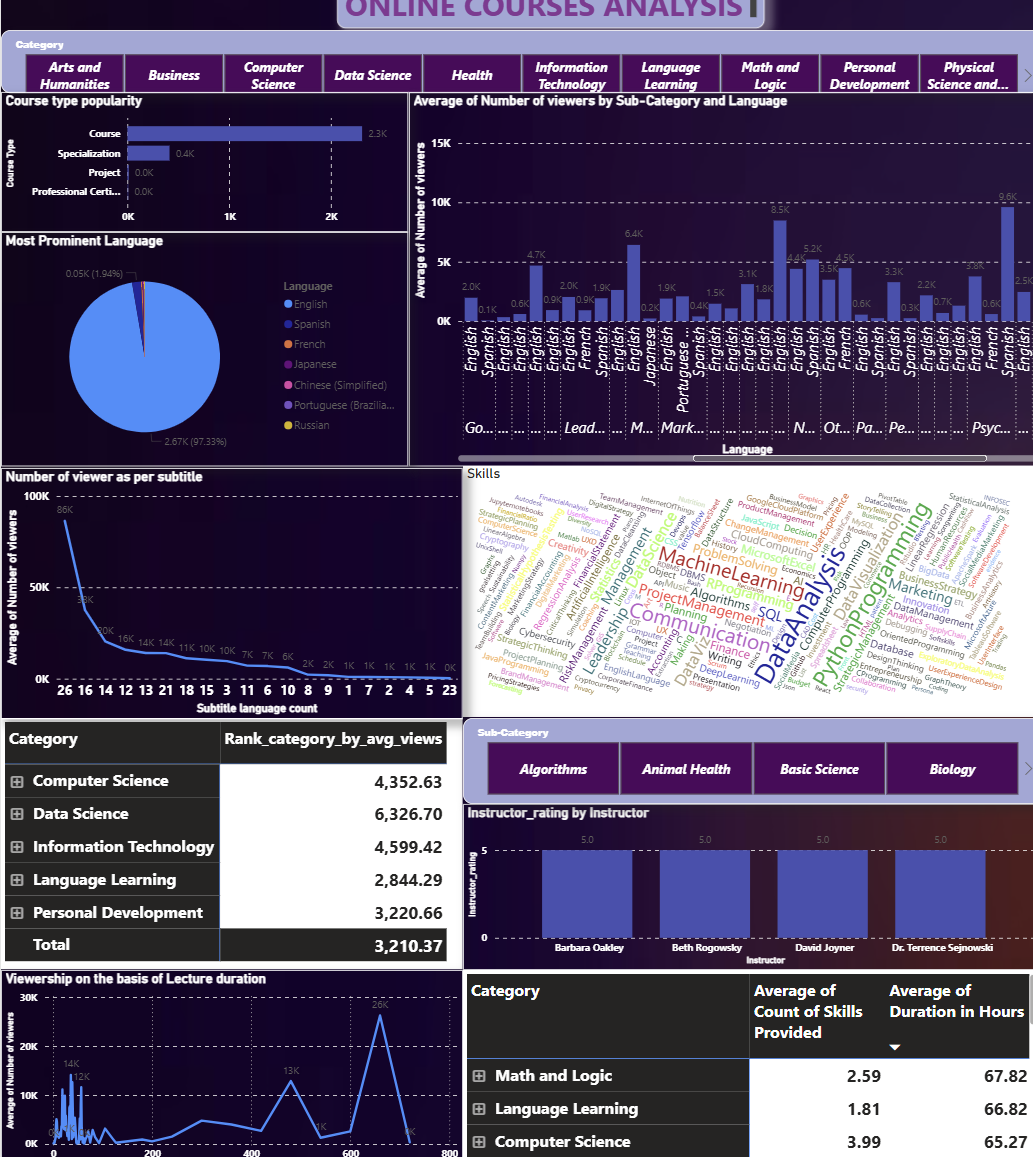

Layout of this report page (visuals, bound fields, positions):
{"tool":"powerbi","page":{"name":"Page 1","canvas":[1300,1500],"ordinal":0},"visuals":[{"type":"textbox","box":[418.8,0,534.4,65.6],"z":0},{"type":"slicer","fields":{"Values":["Online_Courses.Category"]},"box":[0,67,1300,79],"z":1000},{"type":"barChart","title":"Course type popularity","fields":{"Category":["Online_Courses.Course Type"],"Y":["CountNonNull(Online_Courses.course id)"]},"box":[0,145.5,509.1,175],"z":2000},{"type":"columnChart","fields":{"Category":["Online_Courses.Sub-Category","Online_Courses.Language"],"Y":["Avg(Online_Courses.Number of viewers)"]},"box":[509,146,791,468],"z":3000},{"type":"WordCloud1447959067750","fields":{"Category":["Online_Courses.Skills"]},"box":[577.3,613.6,725,313.6],"z":4000},{"type":"pieChart","title":"Most Prominent Language","fields":{"Category":["Online_Courses.Language"],"Y":["CountNonNull(Online_Courses.course id)"]},"box":[0,320.5,509.1,293.2],"z":5000},{"type":"pivotTable","fields":{"Rows":["Online_Courses.Category","Online_Courses.Language"],"Values":["Online_Courses.Rank_category_by_avg_views"]},"box":[0,927.8,577.2,313.9],"z":6000},{"type":"lineChart","title":"Number of viewer as per subtitle ","fields":{"Category":["Online_Courses.Subtitle language count"],"Y":["Avg(Online_Courses.Number of viewers)"]},"box":[0,613.9,577.2,313.9],"z":7000},{"type":"clusteredColumnChart","fields":{"Category":["teachers.Instructor"],"Y":["teachers.Instructor_rating"]},"box":[577.1,1034.4,722.9,207.3],"z":8000},{"type":"slicer","fields":{"Values":["teachers.Sub-Category"]},"box":[577.1,927.1,722.9,107.3],"z":9000},{"type":"lineChart","title":"Viewership on the basis of Lecture duration","fields":{"Category":["Online_Courses.Duration in Hours"],"Y":["Avg(Online_Courses.Number of viewers)"]},"box":[0,1242.5,577.5,257.5],"z":10000},{"type":"pivotTable","fields":{"Rows":["Online_Courses.Category","Online_Courses.Sub-Category"],"Values":["Avg(Online_Courses.Count of Skills Provided)","Avg(Online_Courses.Duration in Hours)"]},"box":[578,1243,722,257],"z":11000}]}

Visuals, with their boxes in screenshot pixels (x1, y1, x2, y2):
textbox: 330, 0, 752, 34
slicer - Online_Courses.Category: 0, 35, 1025, 97
"Course type popularity" barChart: 0, 97, 401, 235
columnChart - Online_Courses.Sub-Category x Online_Courses.Language: 401, 97, 1025, 466
WordCloud1447959067750 - Online_Courses.Skills: 455, 466, 1027, 713
"Most Prominent Language" pieChart: 0, 235, 401, 466
pivotTable - Online_Courses.Category x Online_Courses.Language: 0, 714, 455, 961
"Number of viewer as per subtitle " lineChart: 0, 466, 455, 714
clusteredColumnChart - teachers.Instructor x teachers.Instructor_rating: 455, 798, 1025, 961
slicer - teachers.Sub-Category: 455, 713, 1025, 798
"Viewership on the basis of Lecture duration" lineChart: 0, 962, 455, 1156
pivotTable - Online_Courses.Category x Online_Courses.Sub-Category: 456, 962, 1025, 1156
